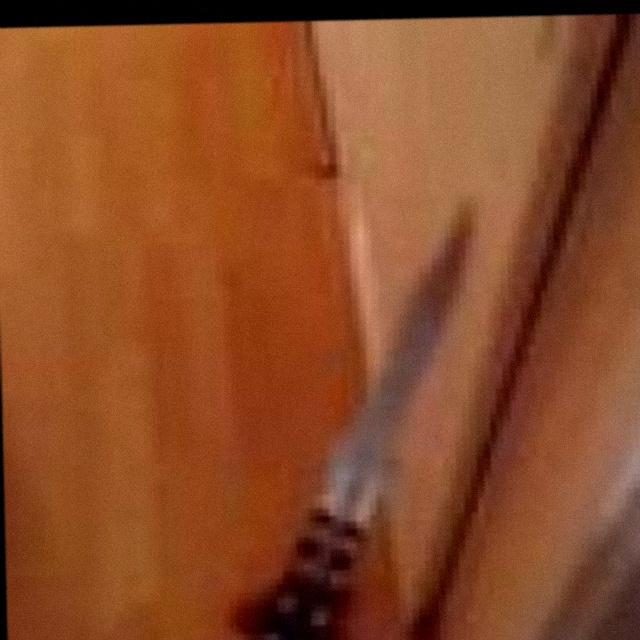Sharp-Object: (245, 211, 479, 640)
